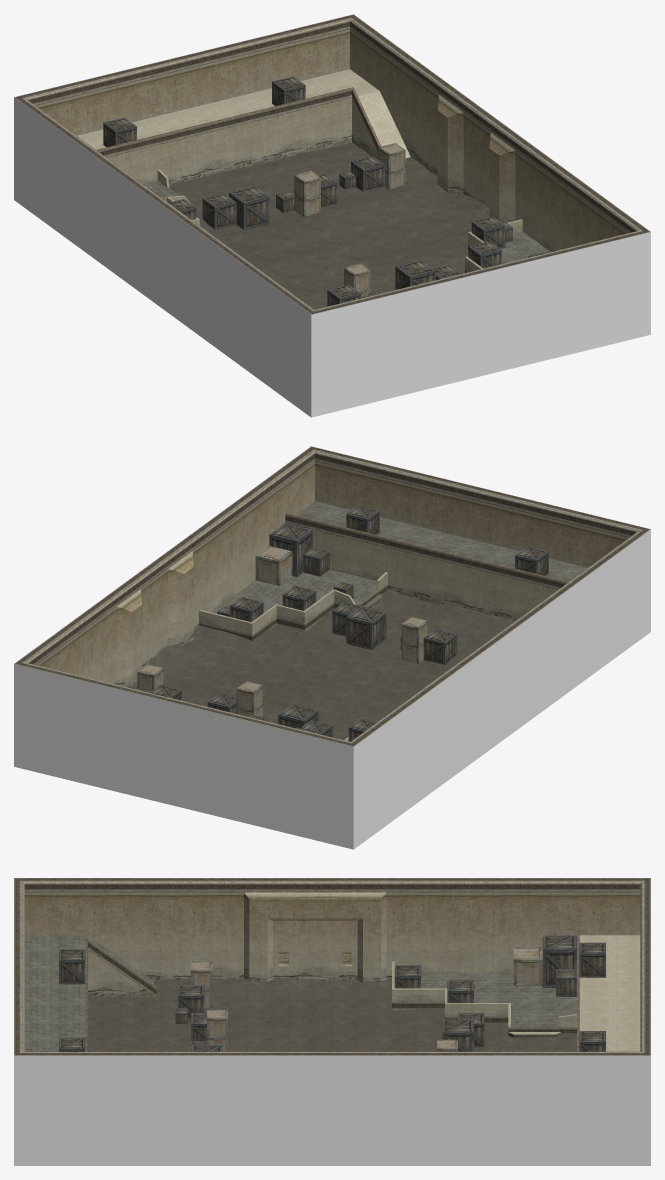
The model's file is aim-map-compressed.glb.
3 views of the same model, one above another, from view 1: azimuth 30°, elevation 25°; view 2: azimuth 150°, elevation 25°; view 3: azimuth 270°, elevation 25° (orthographic). The views are drawn at different scales.
Parts seen in each view (by area): view 1: aim_map; view 2: aim_map; view 3: aim_map.
Part boxes in pixels (x1,y1,x2,y2): aim_map: (14,14,650,417); aim_map: (14,446,650,849); aim_map: (14,878,650,1165).
Size of the model in its own units: 25.44 by 7.36 by 38.56.
Materials: 14 (13 with a texture image).
